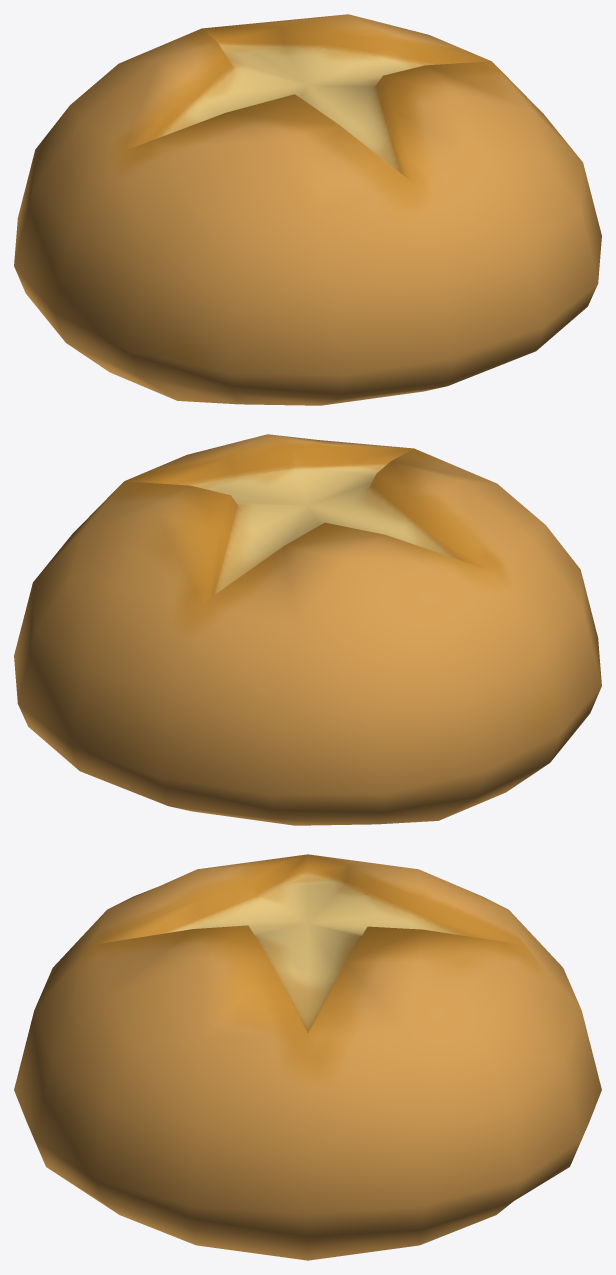
File: Bakery_Breads_01.fbx
3 views of the same model, one above another, from view 1: azimuth 30°, elevation 25°; view 2: azimuth 150°, elevation 25°; view 3: azimuth 270°, elevation 25° (orthographic).
Visible parts, largest first — view 1: Bakery_Breads_01; view 2: Bakery_Breads_01; view 3: Bakery_Breads_01.
Boxes of the visible parts, x1,y1,x2,y2 form: Bakery_Breads_01: [14, 14, 601, 405]; Bakery_Breads_01: [14, 434, 601, 825]; Bakery_Breads_01: [14, 854, 601, 1260].
Size of the model in its own units: 30.82 by 16.22 by 30.82.
